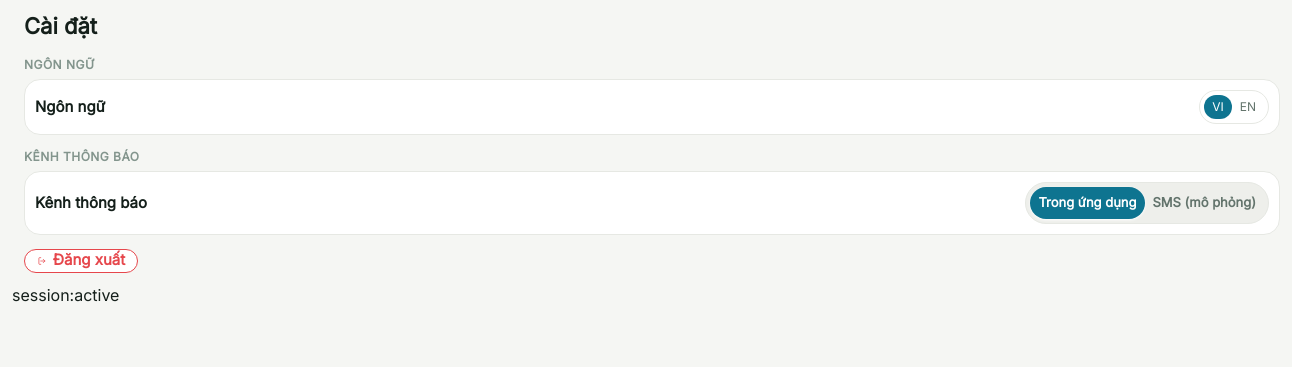
SettingsPage (SCR-10 Settings) › renders the notification channel choice (in-app / SMS) and applies a selection immediately with a saved confirmation
Click the button "SMS (mô phỏng)" at (1204, 203), box [1144, 187, 1264, 218]
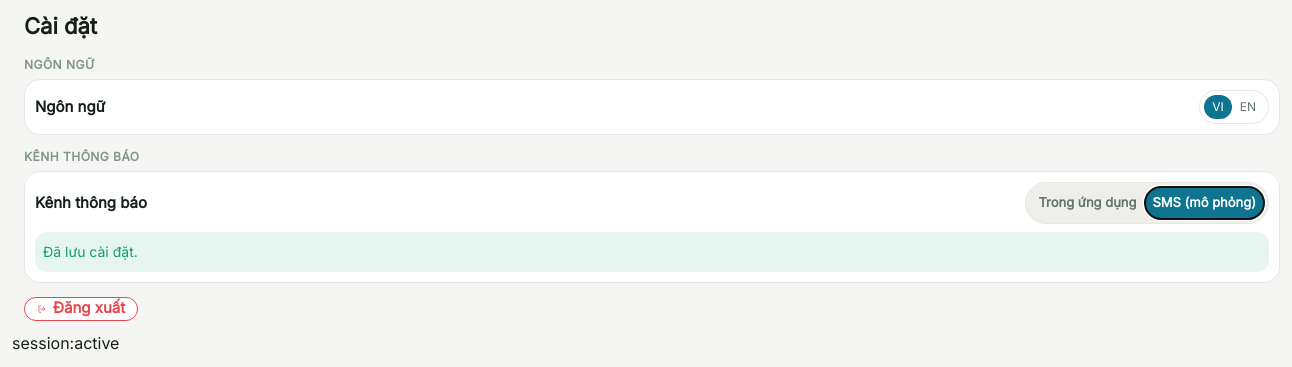
Check: the text "Đã lưu cài đặt." is shown, box [35, 232, 1269, 272]
